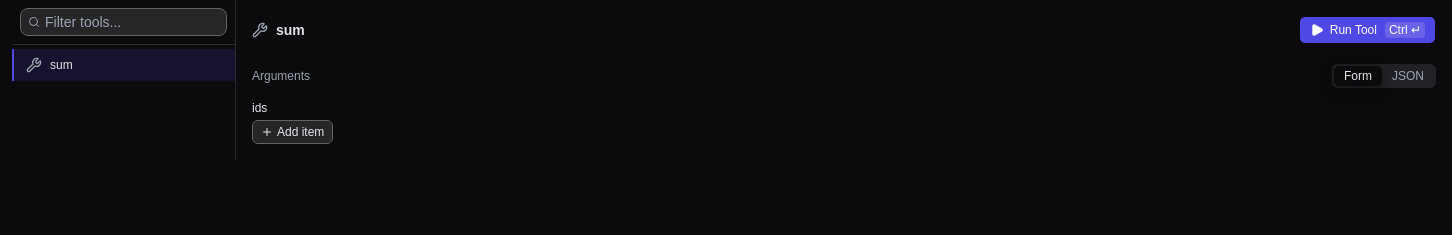
ToolPanel Run › disables Run while an integer array item is blank
This screenshot has width=1452, height=235.
Click the button with aria-label "add item to ids": (293, 132) top-left (252, 120), bottom-right (333, 144)
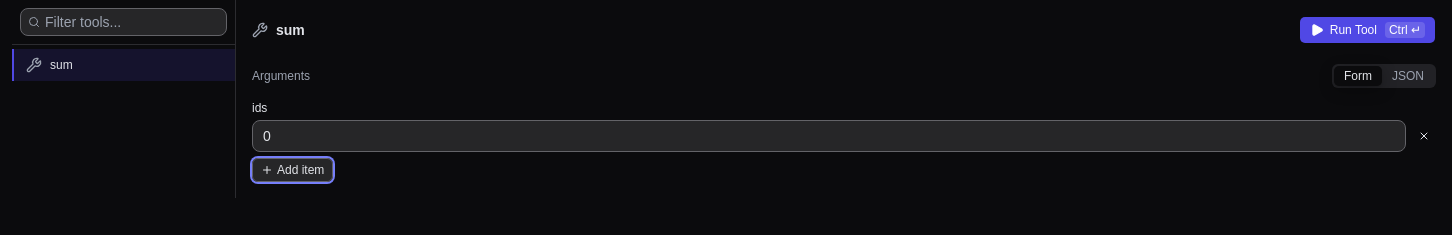
In the number field named "ids item 1": (829, 136) top-left (252, 120), bottom-right (1406, 152), type "4"
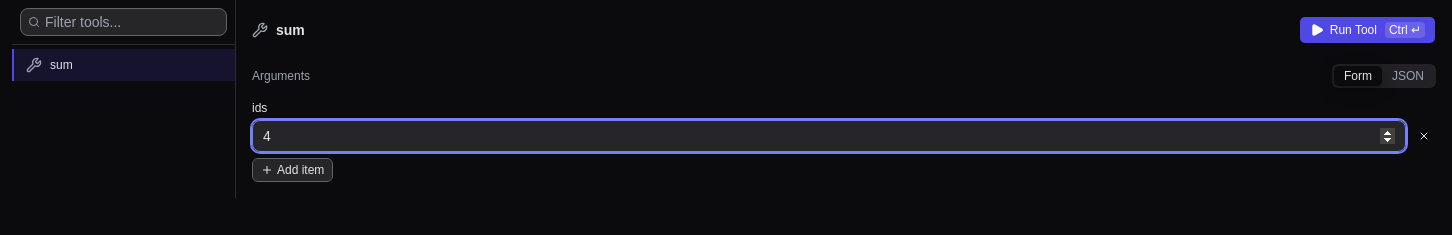
Clear the number field named "ids item 1": (829, 136) top-left (252, 120), bottom-right (1406, 152)
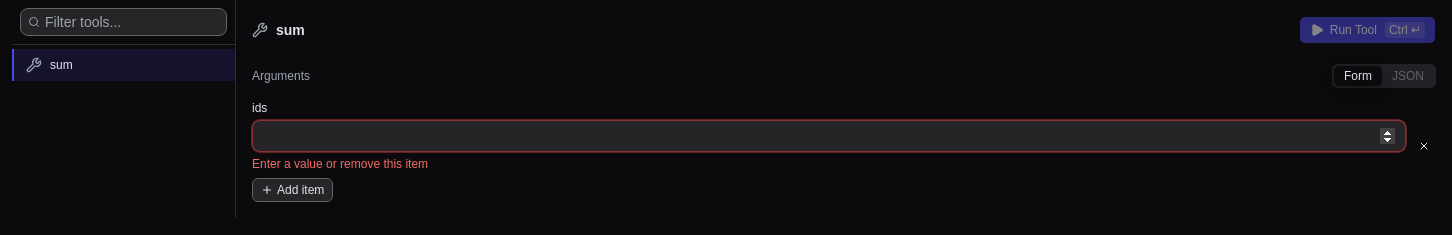
Now the button "Run Tool Ctrl ↵" is disabled, box top-left (1299, 16), bottom-right (1436, 44)
Click the button named "Remove ids item 1": (1424, 146) top-left (1412, 134), bottom-right (1436, 158)
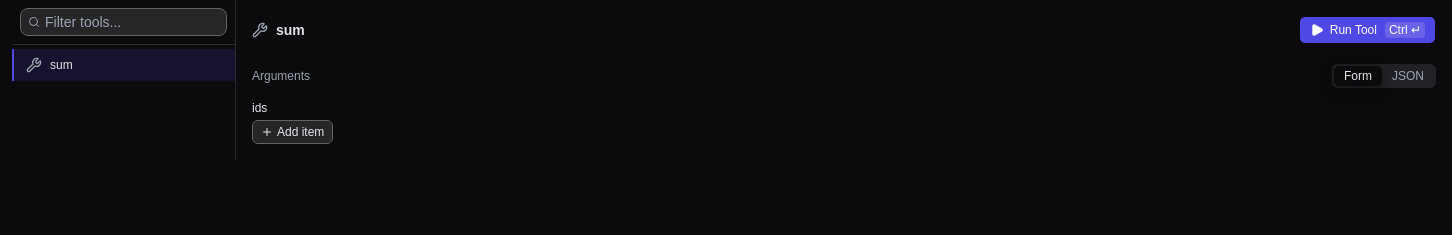
Now the button "Run Tool Ctrl ↵" is enabled, box top-left (1299, 16), bottom-right (1436, 44)
